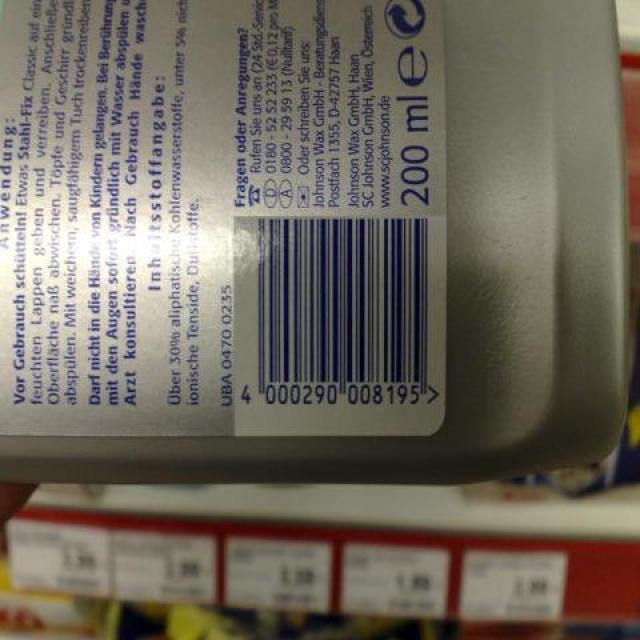Barcode: (233, 216, 442, 431)
